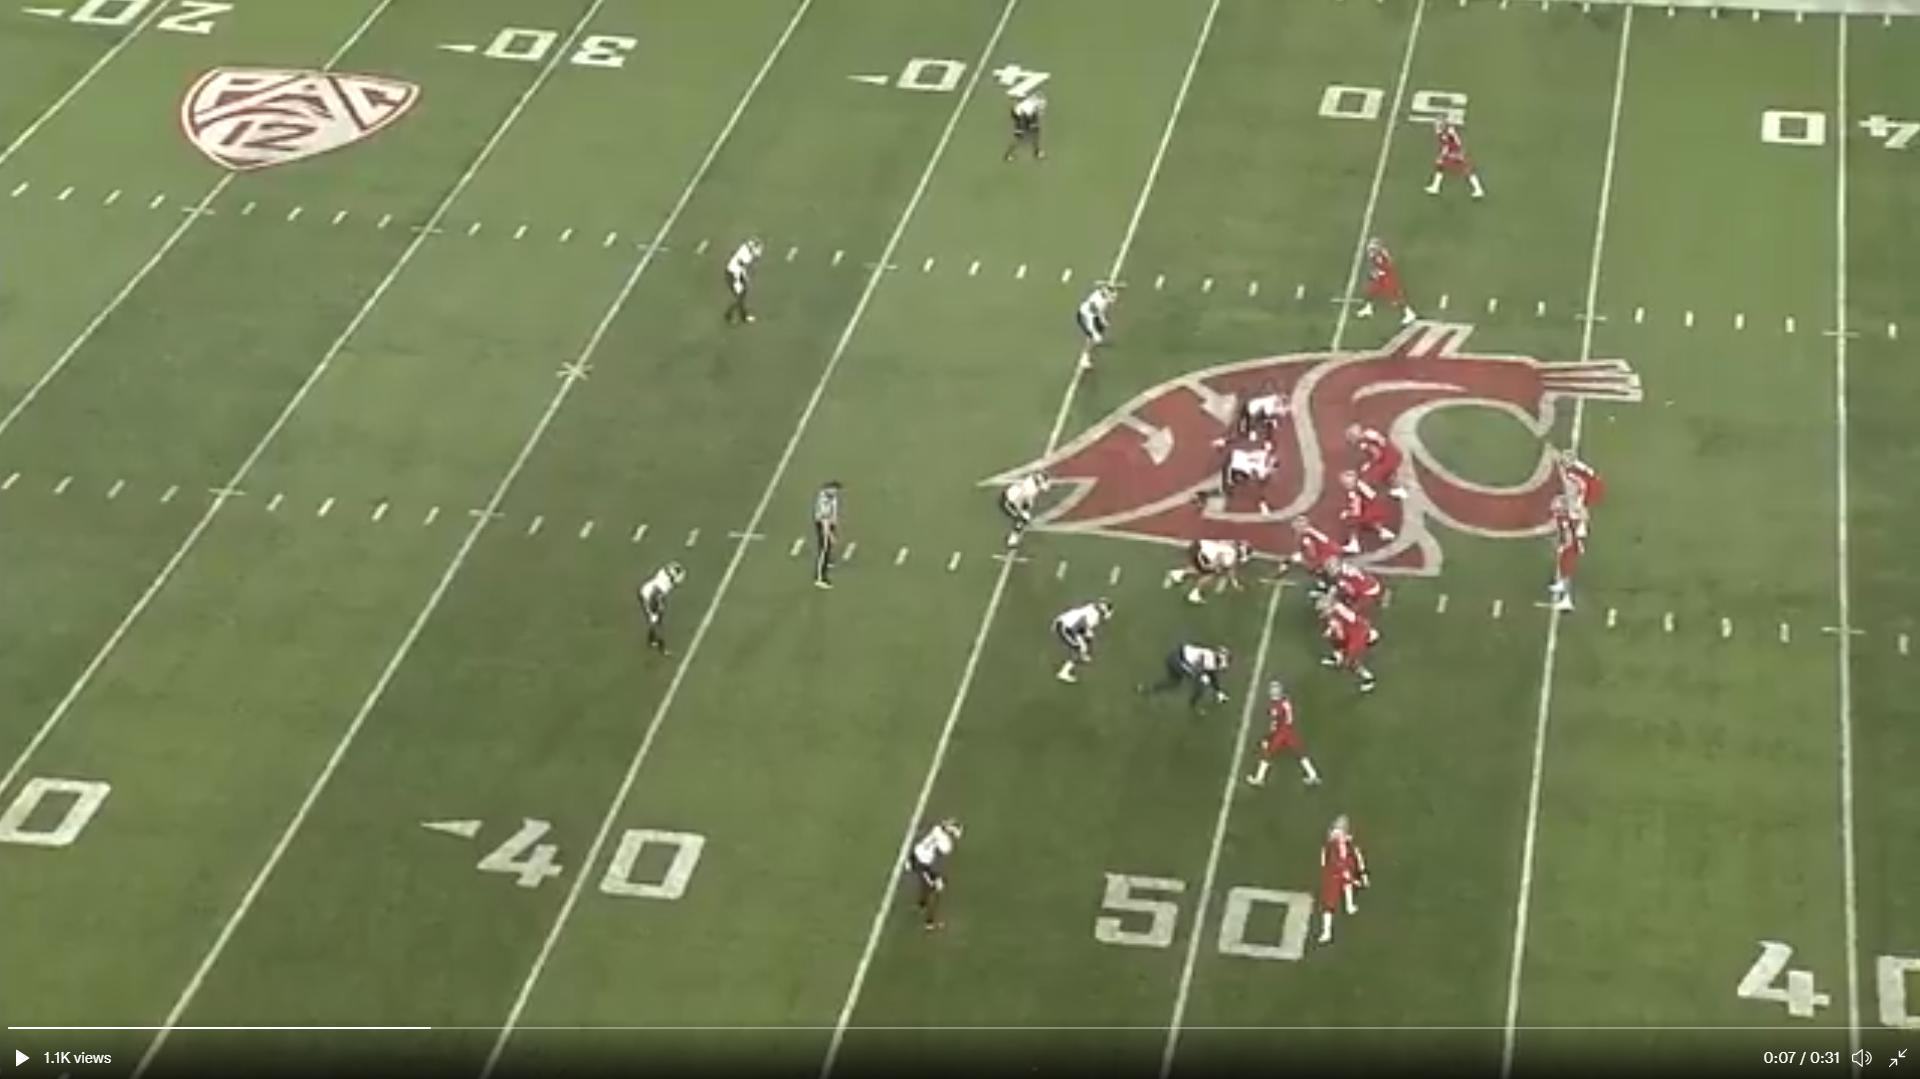player: (1247, 680, 1327, 800), (901, 815, 968, 938), (1317, 813, 1373, 945), (1196, 444, 1283, 522), (1351, 237, 1419, 335), (1550, 446, 1610, 554), (1322, 595, 1384, 697), (1540, 487, 1589, 616), (1150, 641, 1237, 712), (1164, 538, 1252, 607), (1426, 113, 1492, 205), (1331, 464, 1393, 558), (1000, 458, 1054, 558), (1049, 597, 1110, 685), (637, 556, 688, 660), (1330, 557, 1389, 646), (1069, 278, 1121, 378), (1350, 421, 1409, 507), (1285, 517, 1345, 601), (721, 233, 768, 330), (1007, 81, 1056, 171), (1243, 388, 1294, 458)
ref: (806, 474, 854, 595)
